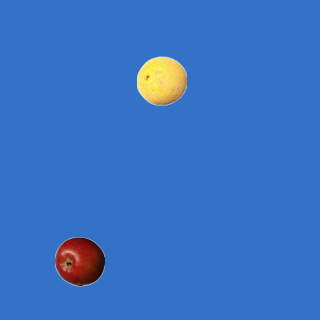Apple Braeburn: (54, 236, 104, 286)
Cantaloupe 1: (136, 55, 186, 105)
